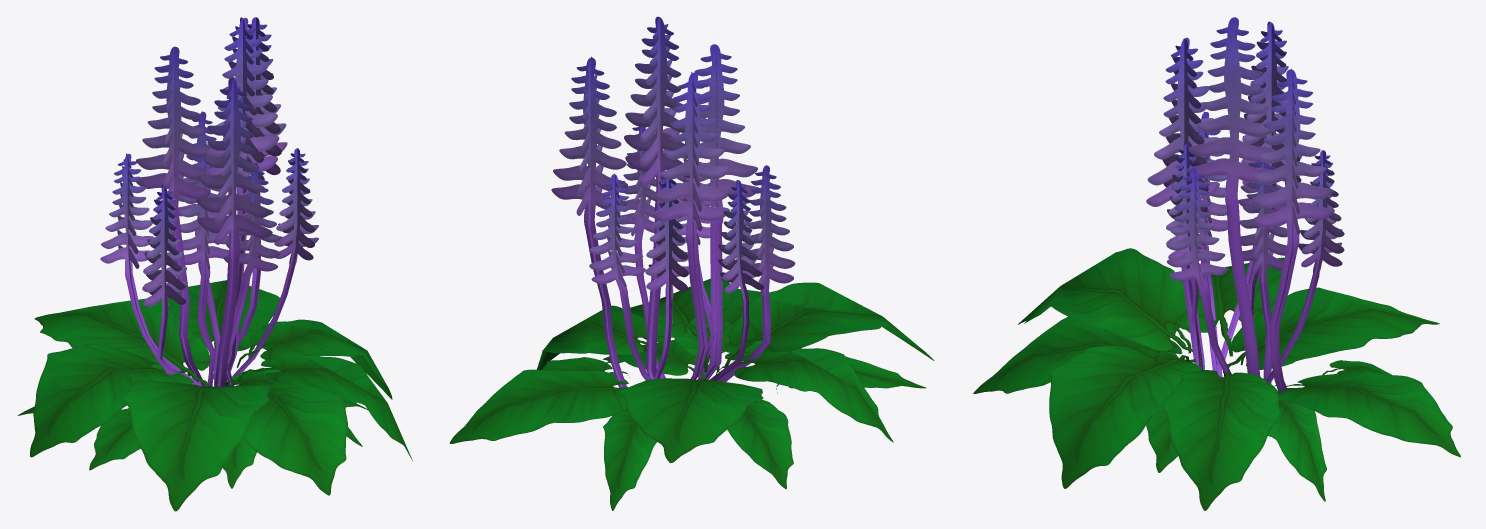
The model's file is purple_long.fbx.
The picture shows the model from 3 angles, left to right: view 1: azimuth 30°, elevation 25°; view 2: azimuth 150°, elevation 25°; view 3: azimuth 270°, elevation 25°; orthographic projection. The views are drawn at different scales.
Parts seen in each view (by area): view 1: morlu; view 2: morlu; view 3: morlu.
Boxes of the visible parts, x1=… form: morlu: x1=17, y1=17, x2=412, y2=511; morlu: x1=449, y1=16, x2=934, y2=510; morlu: x1=973, y1=17, x2=1460, y2=510.
Size of the model in its own units: 60.21 by 66.26 by 68.49.
